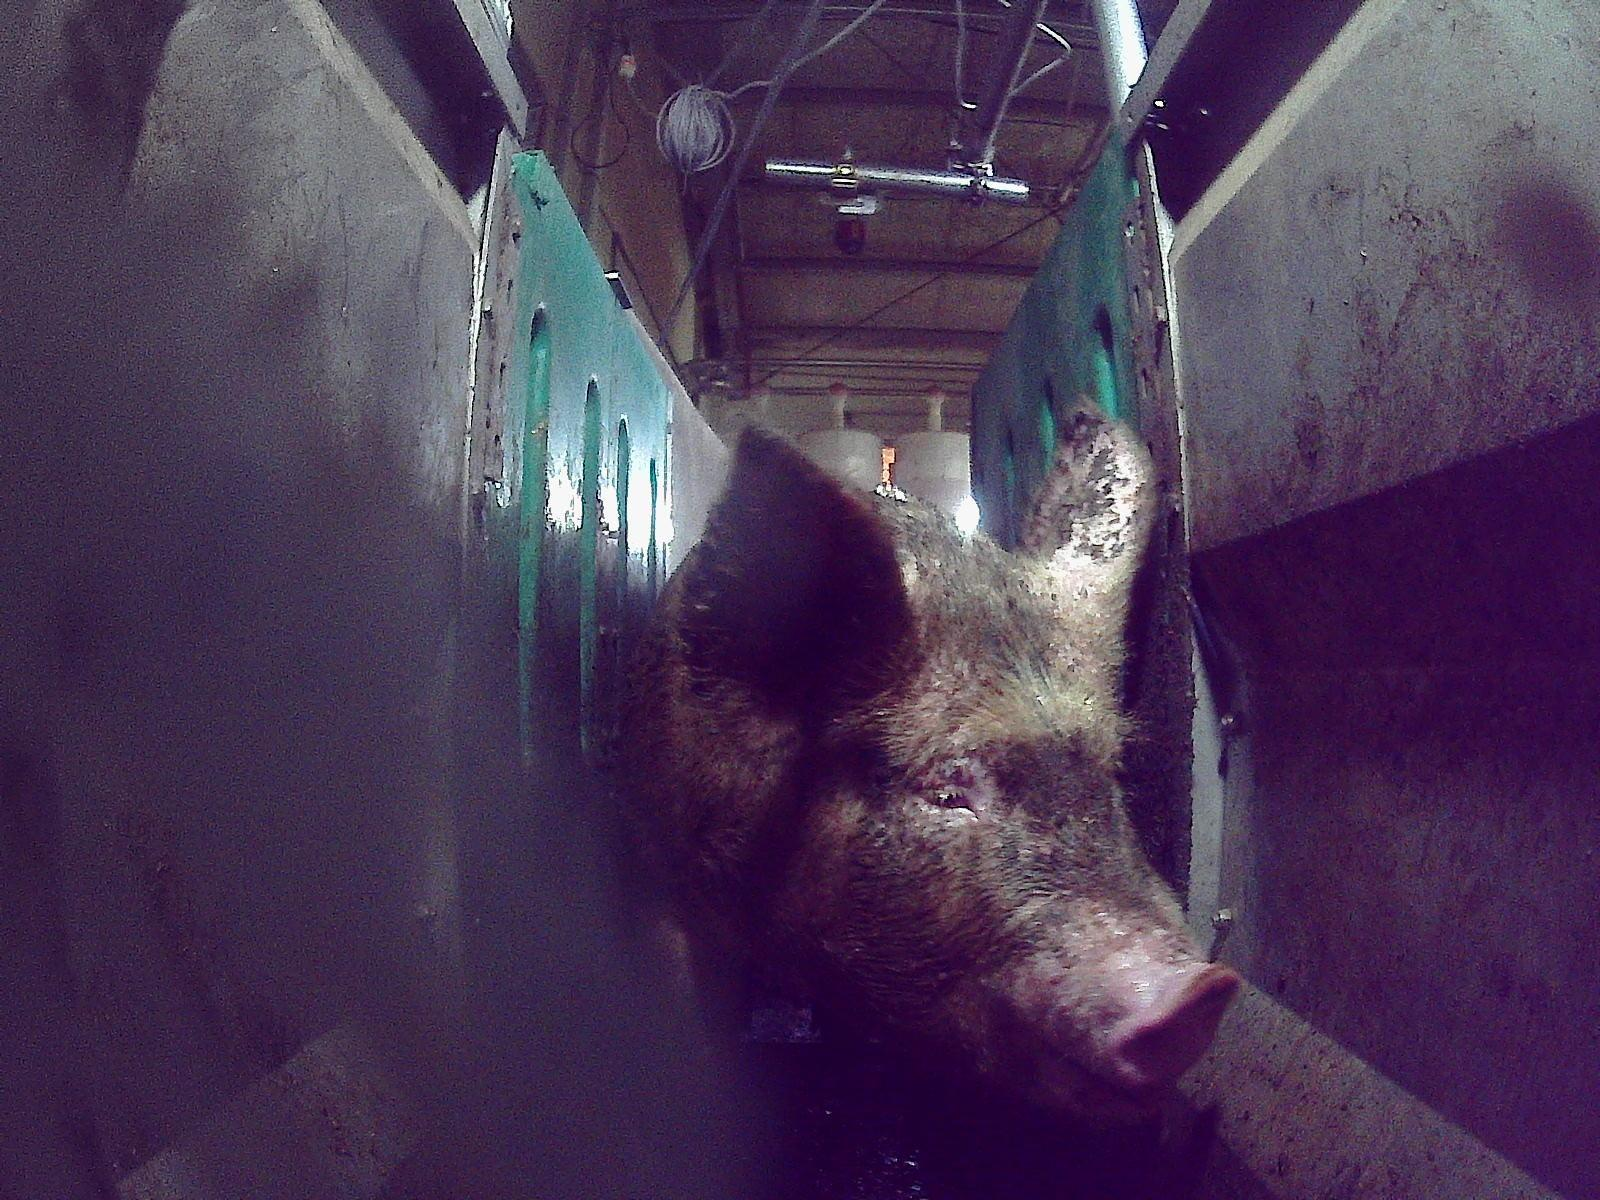Face: (748, 523, 1236, 1120)
